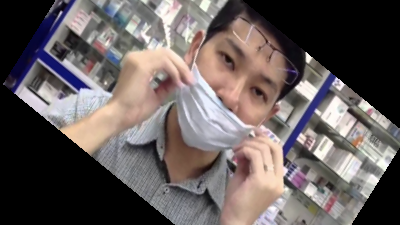mask_weared_incorrect: (167, 1, 312, 161)
